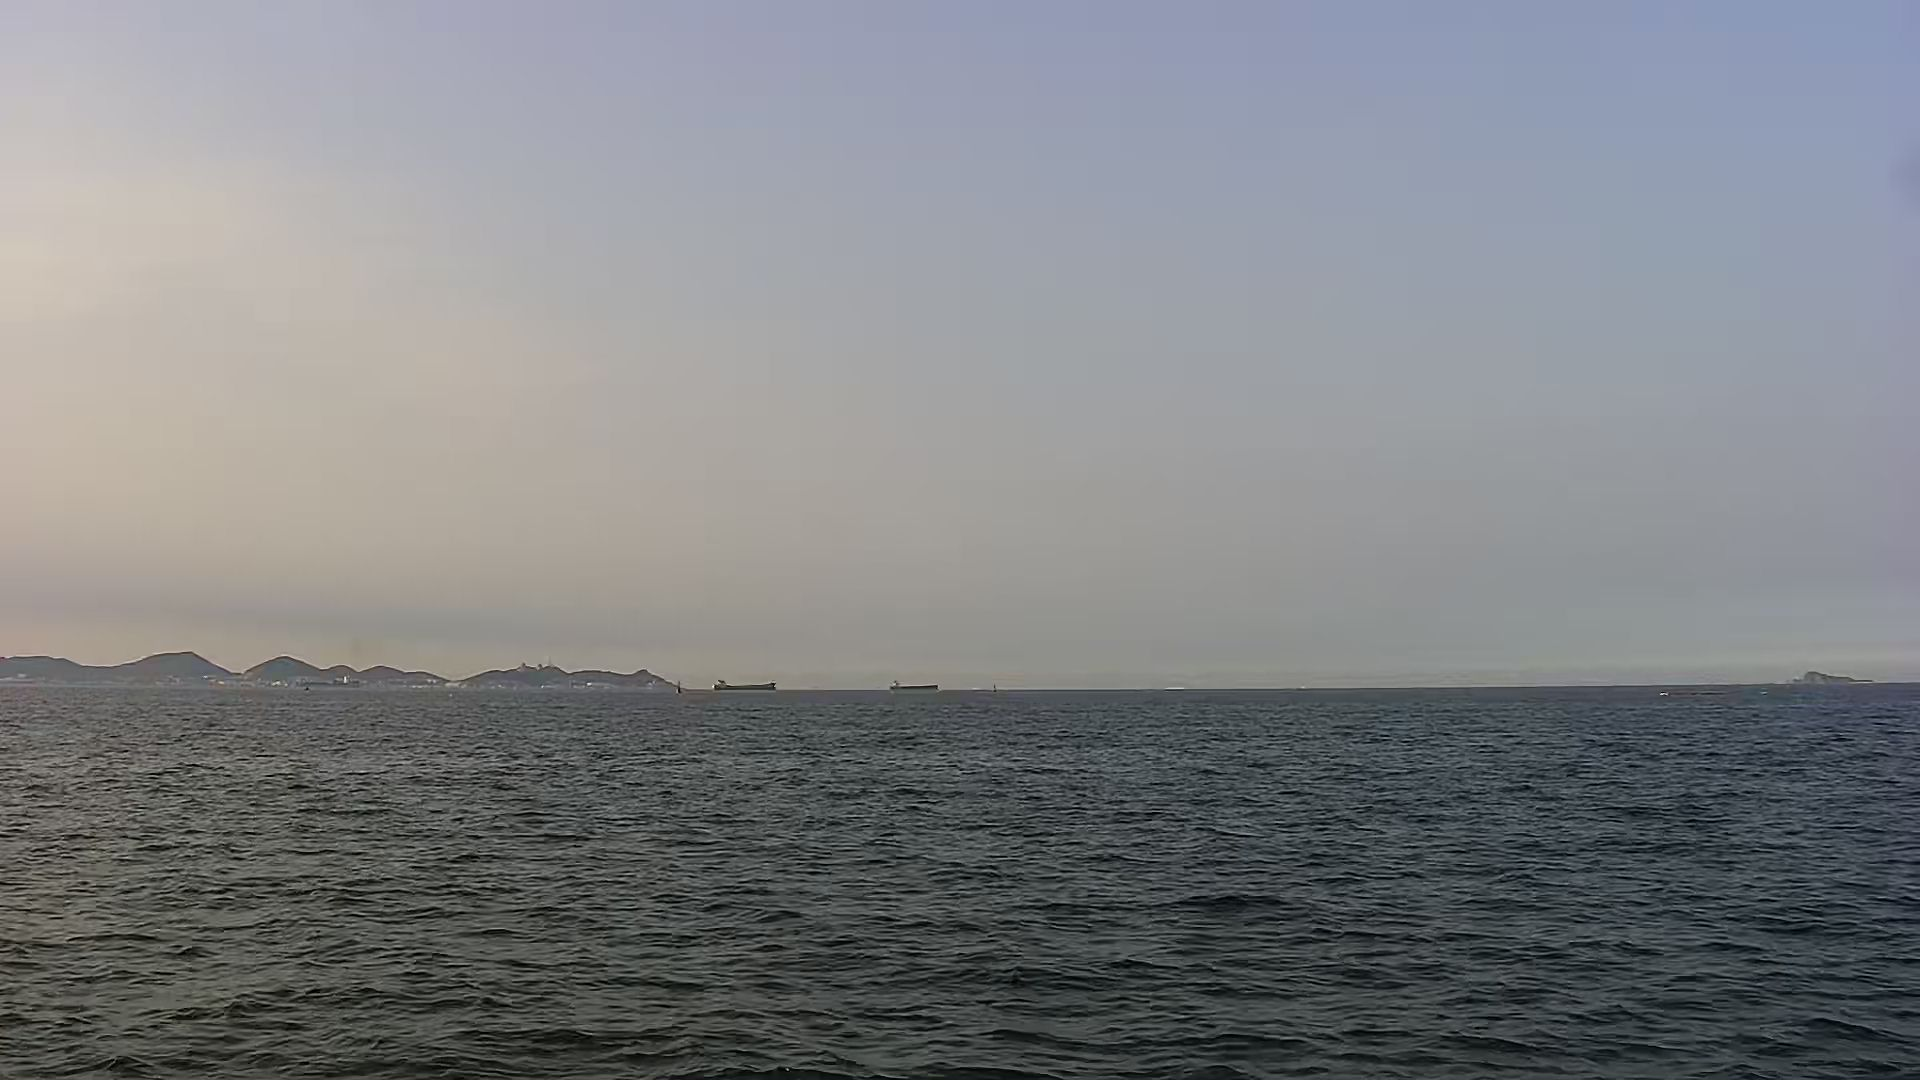ship: (878, 657, 951, 702), (705, 678, 782, 698)
